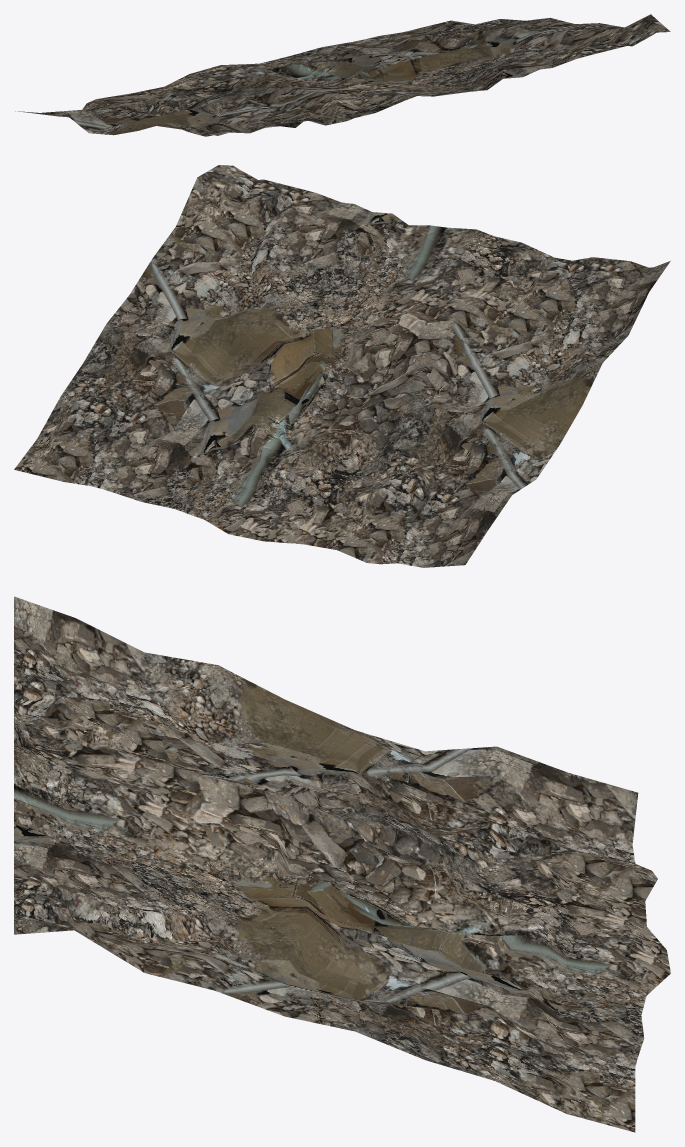
Rendered from GarbageTest.fbx.
3 views of the same model, one above another, from view 1: azimuth 30°, elevation 25°; view 2: azimuth 150°, elevation 25°; view 3: azimuth 270°, elevation 25° (orthographic). The views are drawn at different scales.
Visible parts, largest first — view 1: mesh_0.4834; view 2: mesh_0.4834; view 3: mesh_0.4834.
Boxes of the visible parts, x1,y1,x2,y2 form: mesh_0.4834: (15,14,670,136); mesh_0.4834: (14,165,670,567); mesh_0.4834: (14,596,670,1132).
Size of the model in its own units: 8.94 by 2.91 by 7.63.
